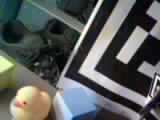duck: (4, 80, 48, 117)
